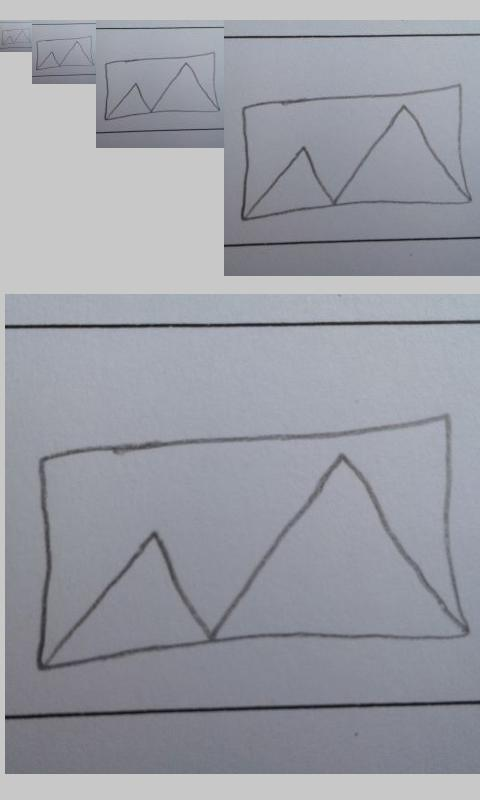image_view: (33, 412, 469, 673), (240, 82, 472, 223), (104, 50, 219, 122), (36, 35, 94, 71), (1, 28, 31, 45)
